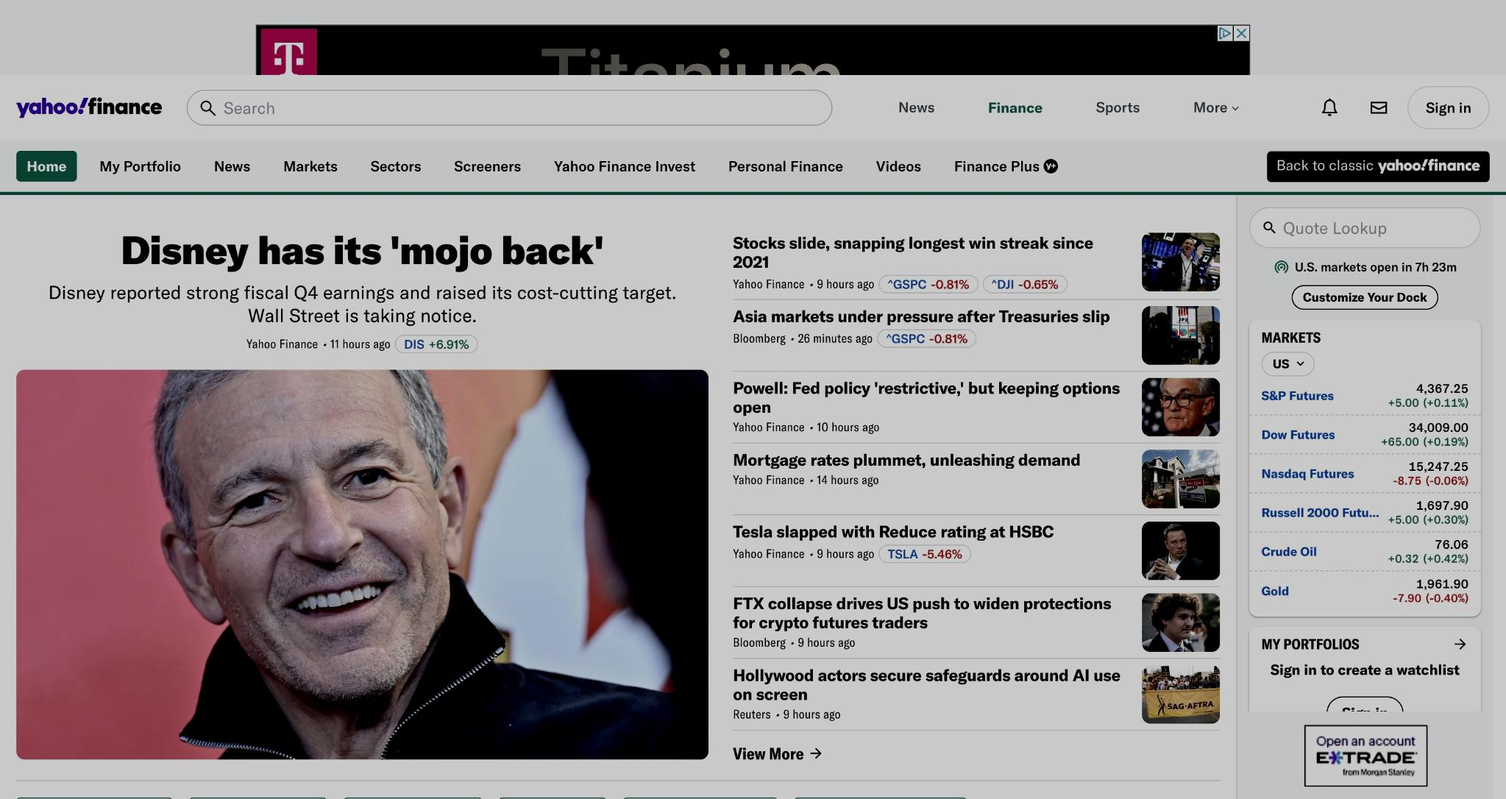webelement: (15, 370, 707, 759), (255, 24, 1250, 280), (0, 74, 1505, 194), (1236, 194, 1492, 799), (15, 227, 707, 326), (10, 145, 1092, 185), (15, 280, 707, 326), (897, 72, 1241, 141), (185, 88, 831, 124), (732, 232, 1125, 270), (732, 593, 1125, 631), (732, 378, 1125, 415), (732, 665, 1125, 702), (1250, 206, 1481, 247), (1307, 85, 1489, 128), (1305, 724, 1428, 785), (732, 306, 1110, 324), (733, 449, 1080, 468), (1262, 575, 1469, 605), (733, 521, 1054, 540), (1262, 380, 1469, 409), (1262, 419, 1469, 448), (1262, 458, 1469, 487), (1262, 497, 1469, 526), (1262, 536, 1469, 565), (1250, 657, 1481, 679), (543, 150, 705, 180), (1142, 232, 1219, 290), (1142, 306, 1219, 364), (1142, 378, 1219, 436), (1142, 449, 1219, 507), (1142, 521, 1219, 579), (1142, 593, 1219, 651), (1142, 665, 1219, 723), (717, 150, 853, 180), (1267, 163, 1489, 181), (944, 150, 1068, 180), (1292, 284, 1438, 309), (1408, 85, 1489, 128), (1261, 634, 1449, 652), (1261, 780, 1449, 798), (89, 150, 191, 180), (16, 97, 161, 117), (444, 150, 530, 180), (1326, 696, 1403, 728), (1295, 259, 1457, 274), (272, 150, 346, 180), (359, 150, 431, 180), (865, 150, 930, 180), (984, 91, 1047, 121), (15, 150, 76, 180), (1345, 576, 1467, 591), (732, 743, 823, 763), (878, 274, 977, 292), (876, 329, 975, 347), (878, 543, 970, 562), (203, 150, 260, 180), (1345, 591, 1467, 605), (1189, 91, 1245, 121), (1262, 505, 1379, 519), (1091, 91, 1144, 121), (394, 334, 477, 353), (1356, 536, 1467, 550), (1356, 551, 1467, 565), (982, 274, 1066, 292), (1363, 434, 1468, 448), (1365, 395, 1468, 409), (1262, 351, 1315, 376), (894, 91, 938, 121), (1262, 466, 1354, 480), (1377, 473, 1468, 487), (1313, 90, 1346, 123), (245, 335, 317, 350), (732, 275, 804, 290), (732, 418, 804, 433), (732, 471, 804, 486), (732, 545, 804, 560), (1262, 327, 1321, 345), (797, 330, 871, 344), (1262, 427, 1335, 441), (1262, 388, 1334, 402), (816, 418, 879, 433), (817, 471, 878, 486), (330, 335, 390, 350), (817, 275, 874, 290), (817, 545, 874, 560), (797, 633, 854, 648), (783, 705, 840, 720), (1408, 419, 1468, 433), (1408, 458, 1468, 472), (732, 633, 785, 648), (1261, 544, 1317, 558), (1415, 576, 1467, 591), (732, 330, 785, 344), (1415, 380, 1467, 394), (1415, 497, 1467, 511), (1193, 95, 1226, 117), (1422, 395, 1467, 409), (1422, 434, 1467, 448), (1422, 512, 1467, 526), (1422, 551, 1467, 565), (428, 335, 468, 350), (1017, 275, 1057, 290), (921, 545, 961, 560), (1371, 88, 1387, 125), (1426, 473, 1468, 487), (1426, 590, 1468, 604), (887, 275, 926, 290), (930, 275, 968, 290), (732, 705, 770, 720), (886, 330, 924, 344), (928, 330, 966, 344), (1381, 434, 1418, 448), (1320, 97, 1339, 122), (1435, 536, 1468, 550), (888, 545, 918, 560), (1388, 395, 1418, 409), (1388, 512, 1418, 526), (1388, 551, 1418, 565), (1393, 473, 1422, 487), (1393, 591, 1422, 605), (1262, 583, 1289, 597), (991, 275, 1013, 290), (404, 335, 423, 350), (1273, 355, 1289, 370), (793, 798, 965, 799), (16, 798, 171, 799), (622, 798, 776, 799), (342, 798, 482, 799), (188, 798, 326, 799), (499, 798, 606, 799)
